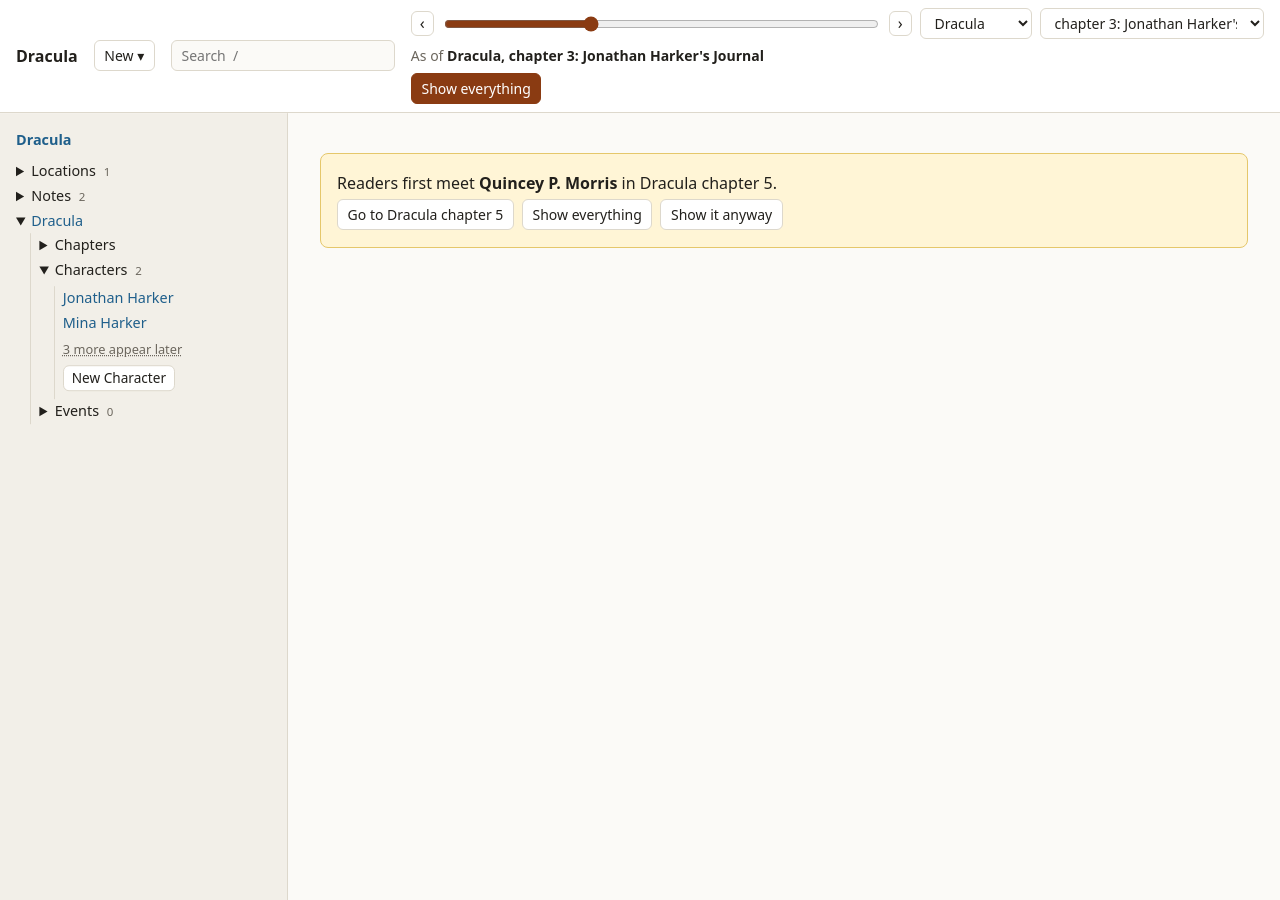
it: SC-WEB-23: I look at a note’s history in the browser › keeps a note the reader hasn’t met hidden, until the writer asks
Check: the text "Readers first meet Quincey P. Morris in Dracula chapter 5." is shown, box [337,172,777,194]
Click the button "Show it anyway": (722,215) [660,199,783,230]
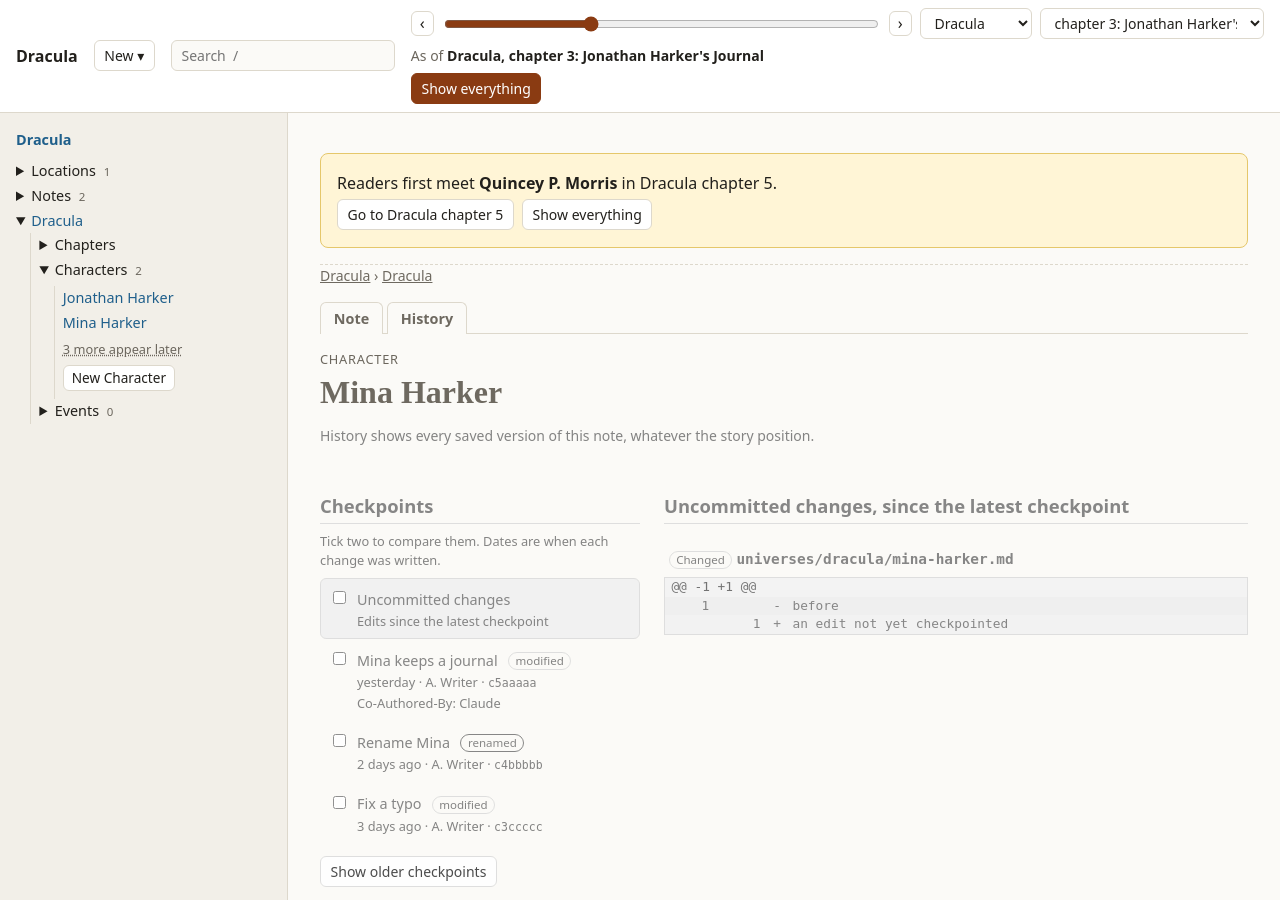
Check: the element named "Checkpoints" is shown, box [320,264,1248,887]
Check: the navigation bar named "Where this is filed" is shown, box [320,266,432,285]
